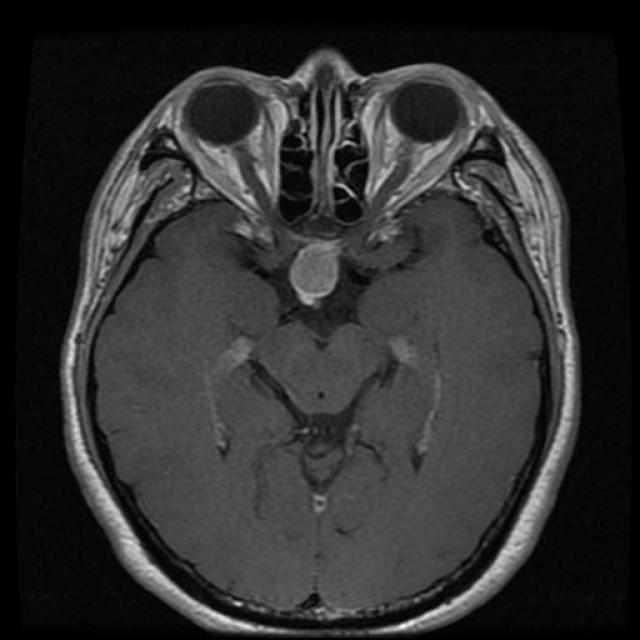pituitary: (247, 211, 362, 316)
